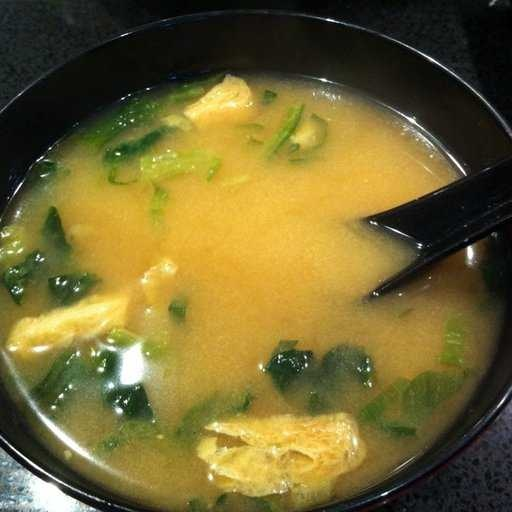soup: (14, 86, 480, 456)
